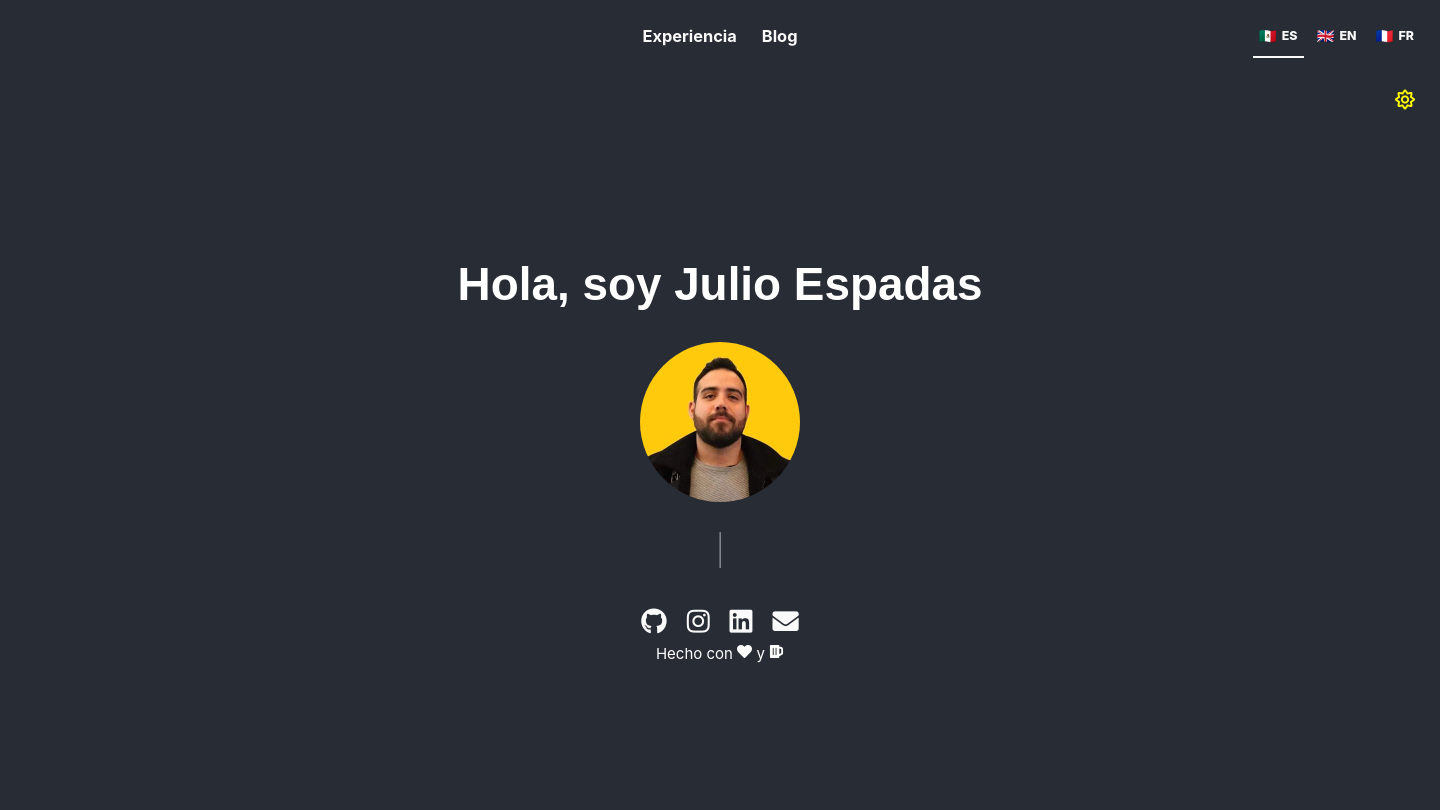
Scenario: App › navigates to the blog page
The width and height of the screenshot is (1440, 810).
Click the button "Blog" at (780, 38), box [762,15,798,60]
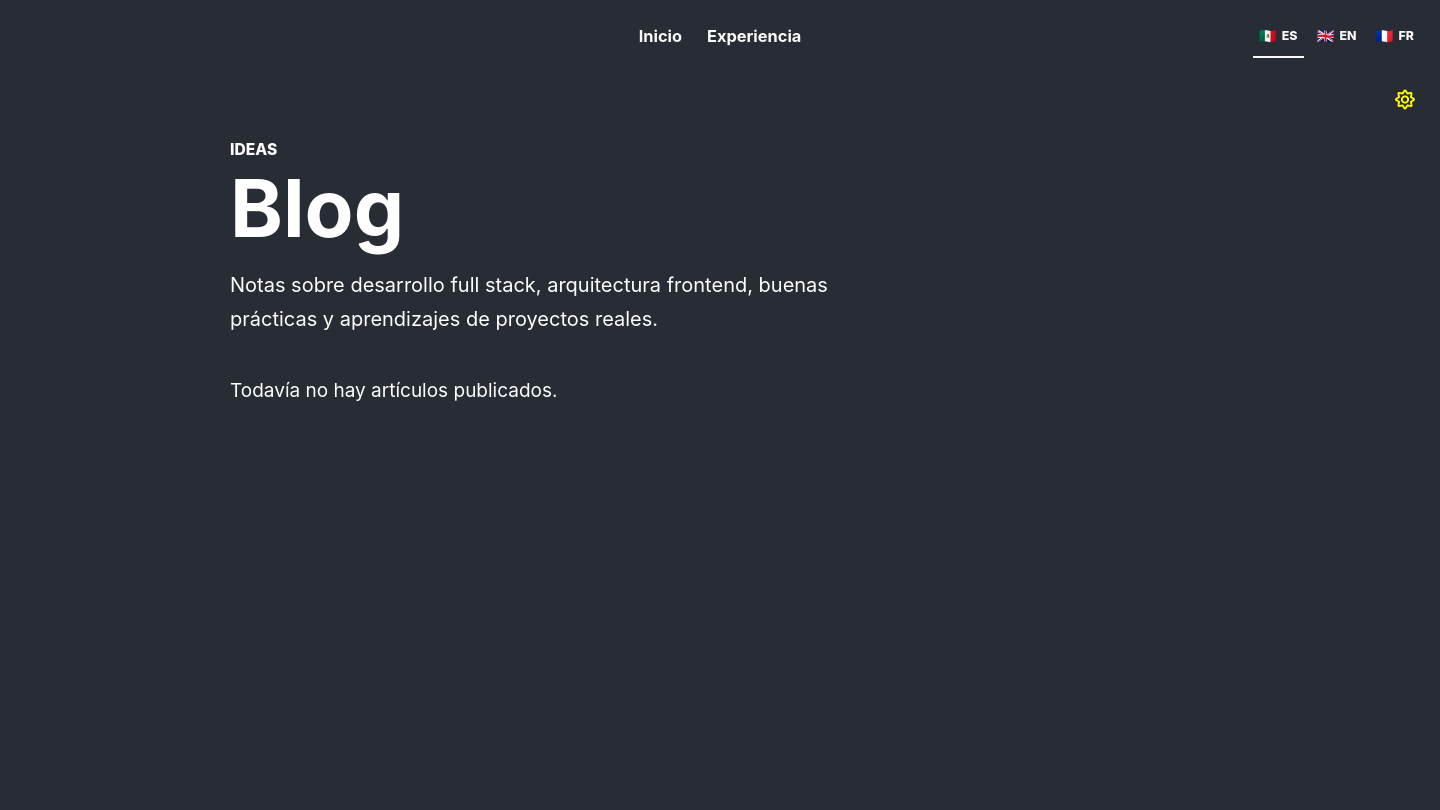
Expected: the heading "Blog" is shown, [230,159,404,256]
Now the button "Inicio" is shown, box [639,15,682,60]
